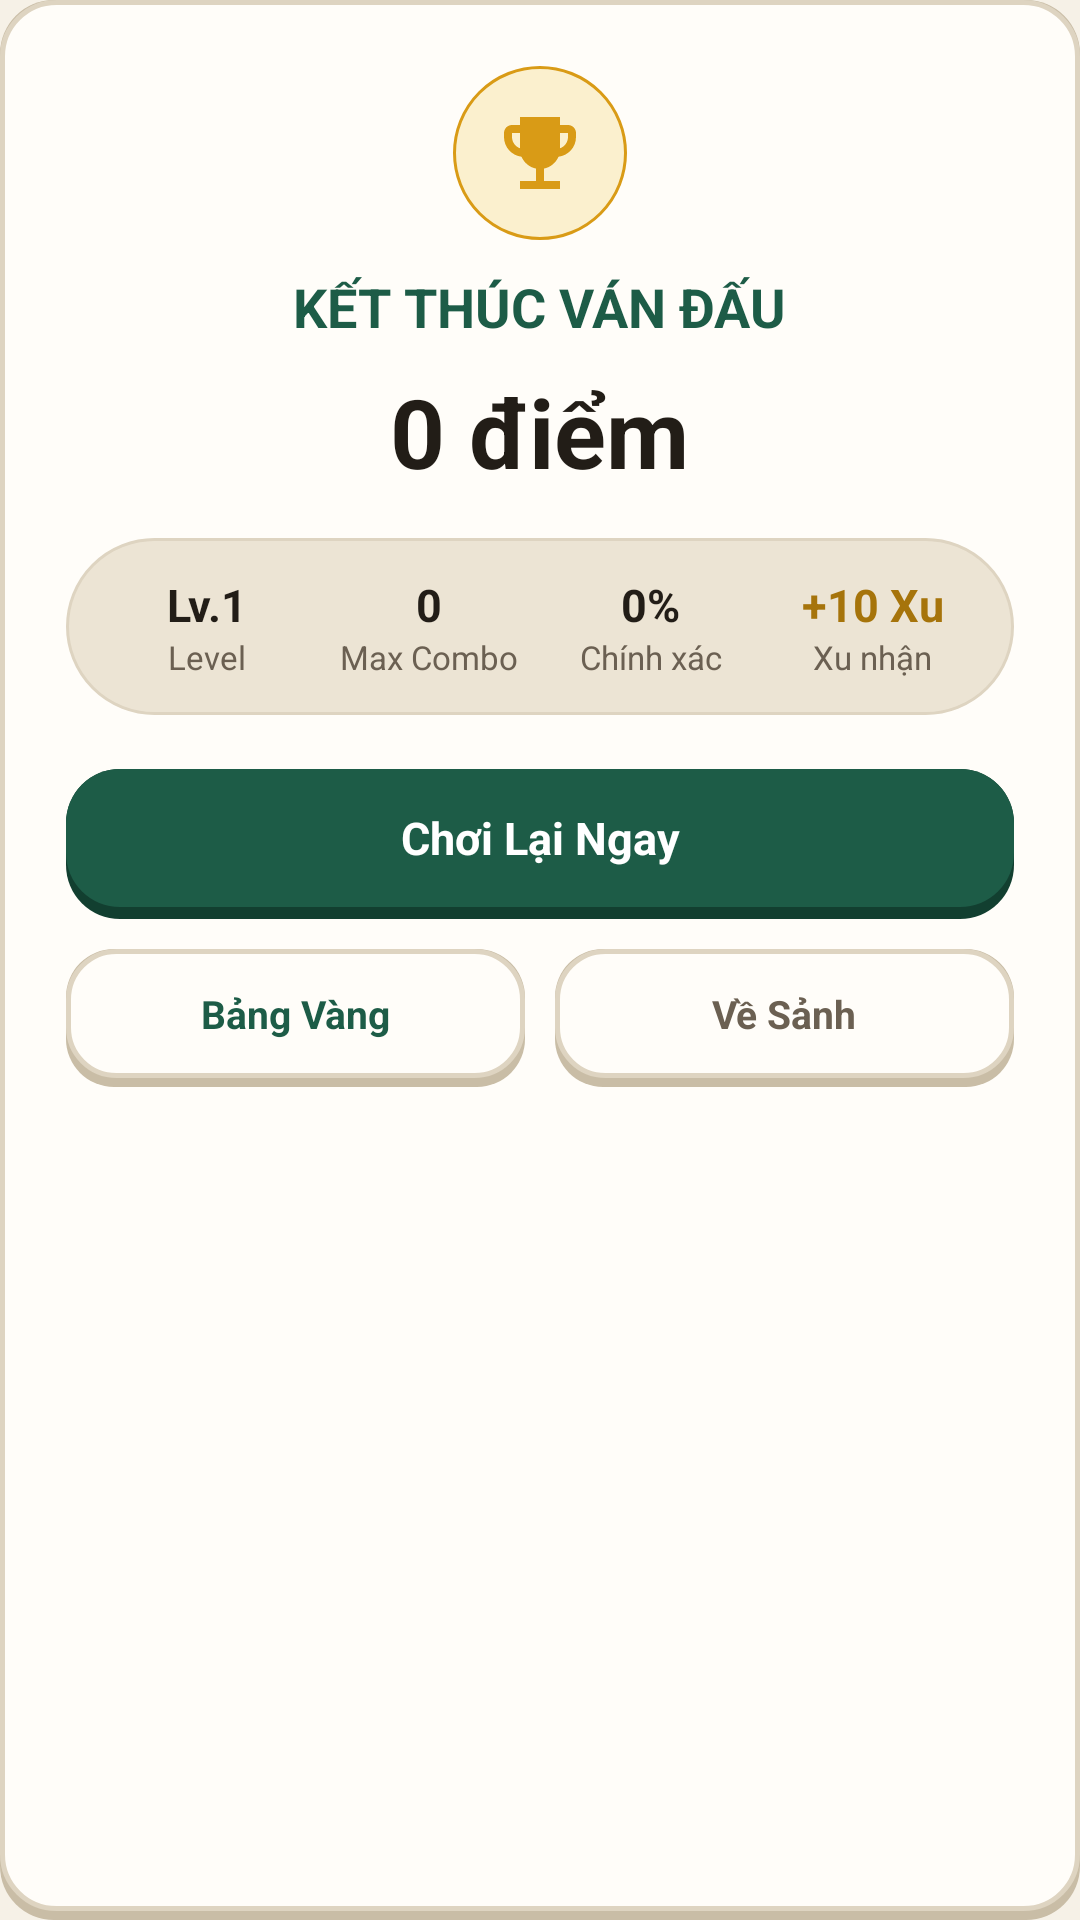

Locate icon controls on the screen. Image size 1080x1920, boxes as (x1, y1, x2, y2).
trophy: (504, 117, 576, 189)
